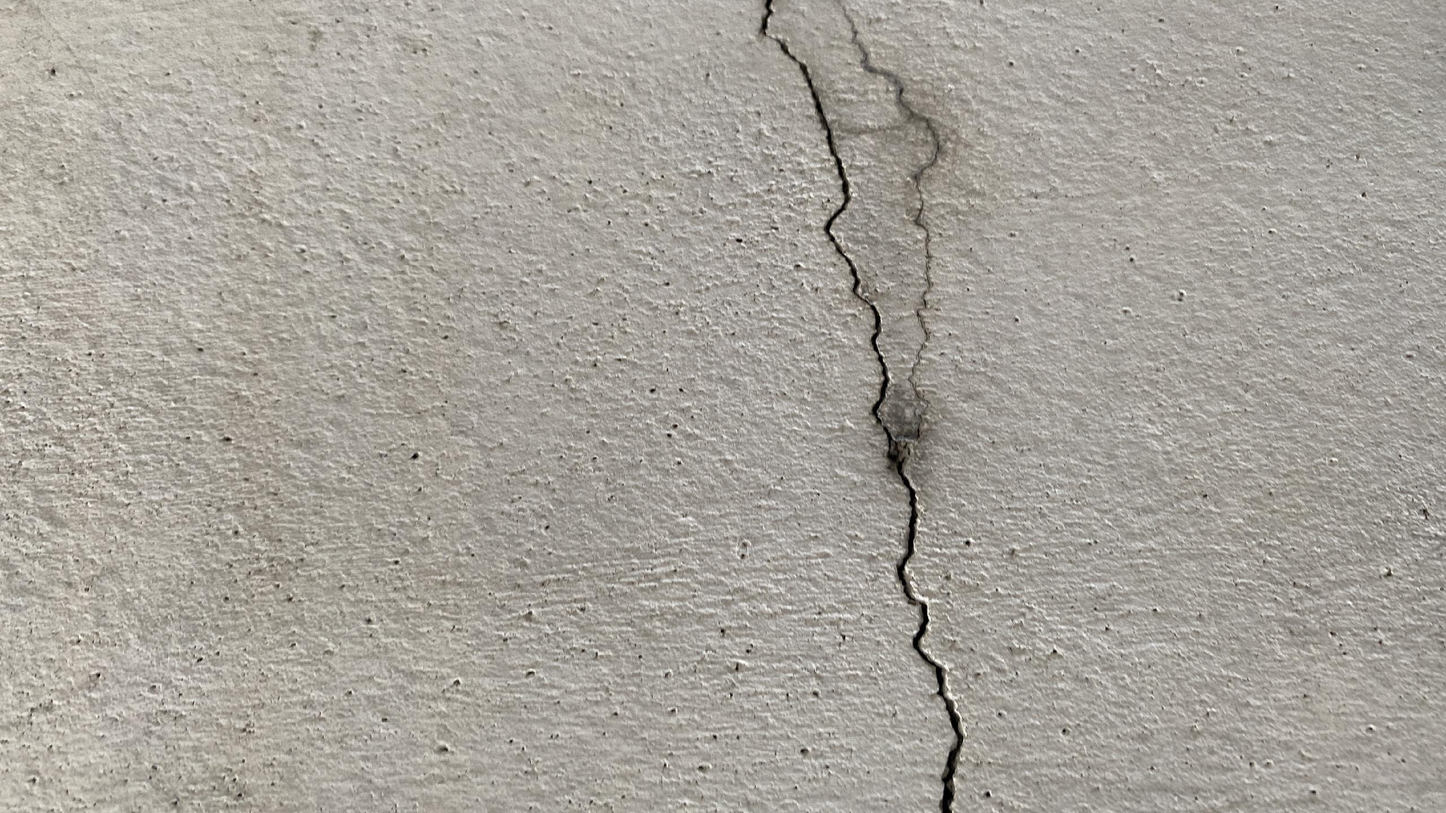crack: (760, 3, 964, 812)
